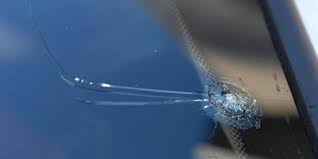bullseye: (191, 75, 275, 140)
scratch: (42, 61, 185, 120)
